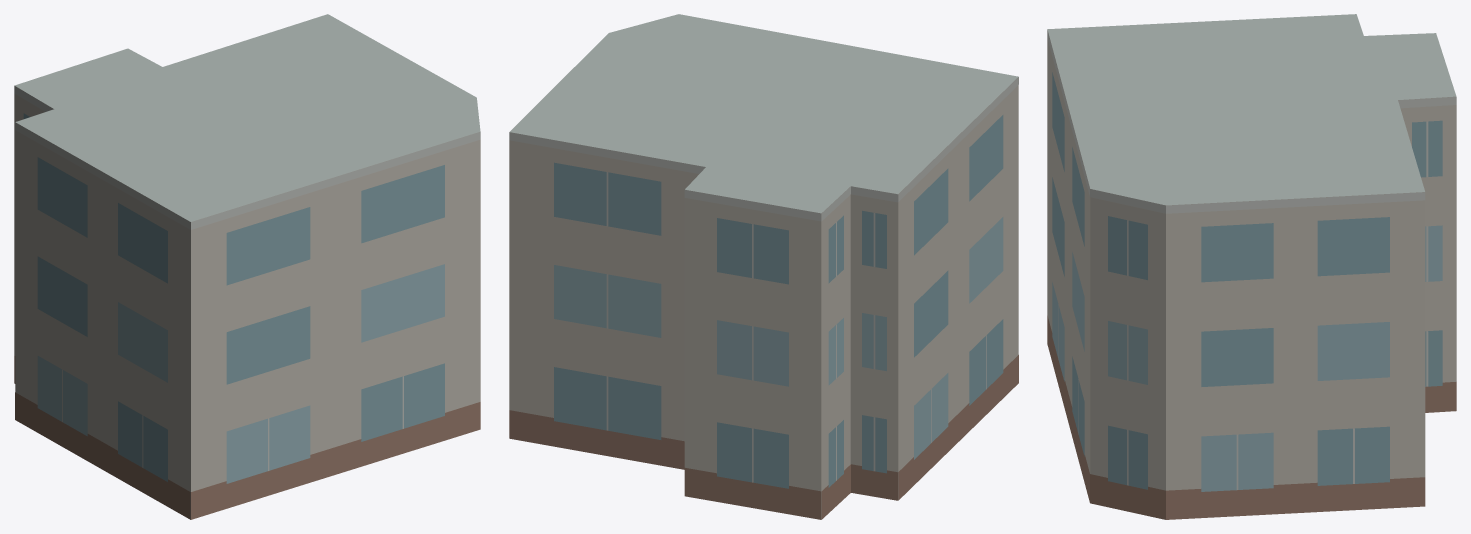
File: survey-upis-32697127.glb
3 renders of one model, left to right at view 1: azimuth 30°, elevation 25°; view 2: azimuth 150°, elevation 25°; view 3: azimuth 270°, elevation 25°, orthographic. The views are drawn at different scales.
Parts seen in each view (by area): view 1: survey-upis-32697127.tmp; view 2: survey-upis-32697127.tmp; view 3: survey-upis-32697127.tmp.
Part boxes in pixels (x1,y1,x2,y2): survey-upis-32697127.tmp: (14,14,480,519); survey-upis-32697127.tmp: (509,14,1018,519); survey-upis-32697127.tmp: (1047,14,1456,519).
Bounding box in the file's own units: 11.95 × 9.15 × 10.8.
